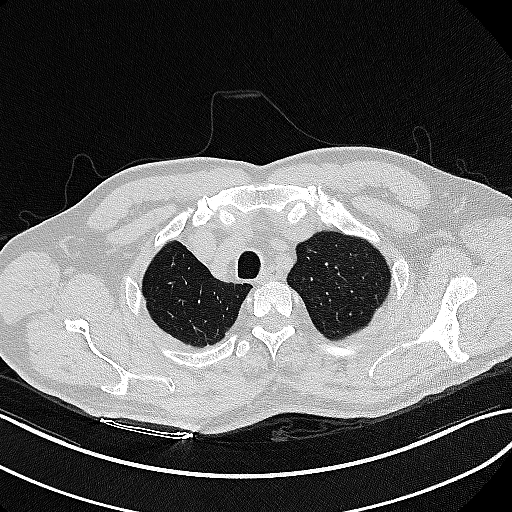nodule: (307, 248, 312, 252)
